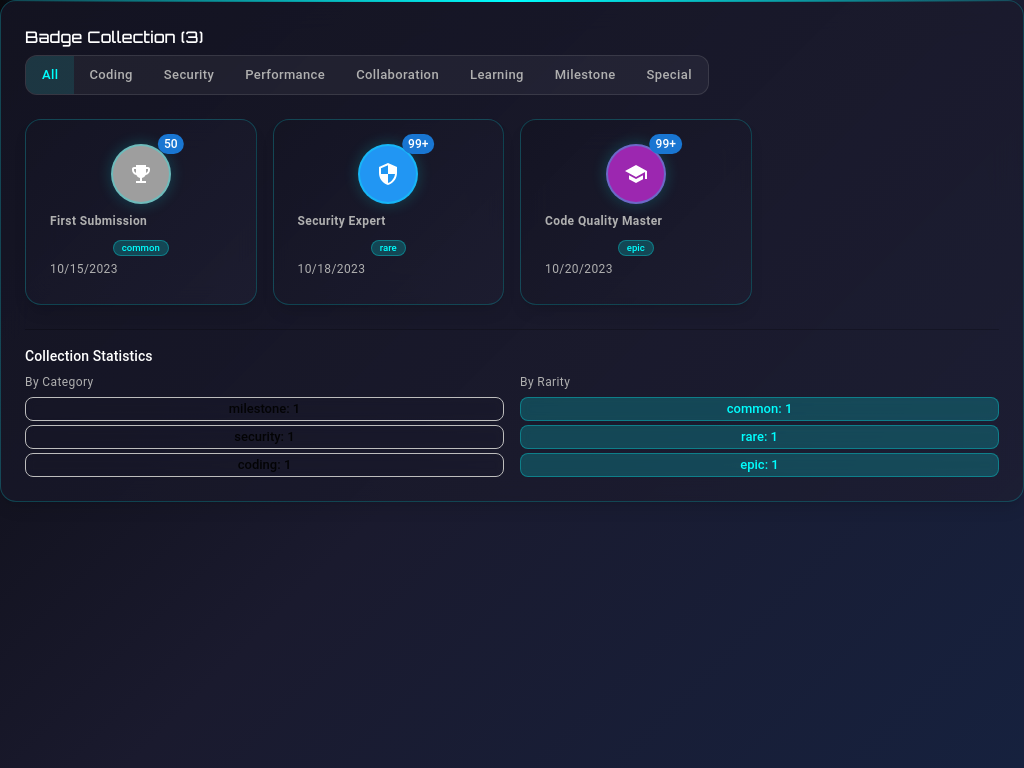
BadgeShowcase › shows badge details in dialog when clicked
Step 1. Click the text "Security Expert" → (388, 212), box left=272, top=119, right=504, bottom=305
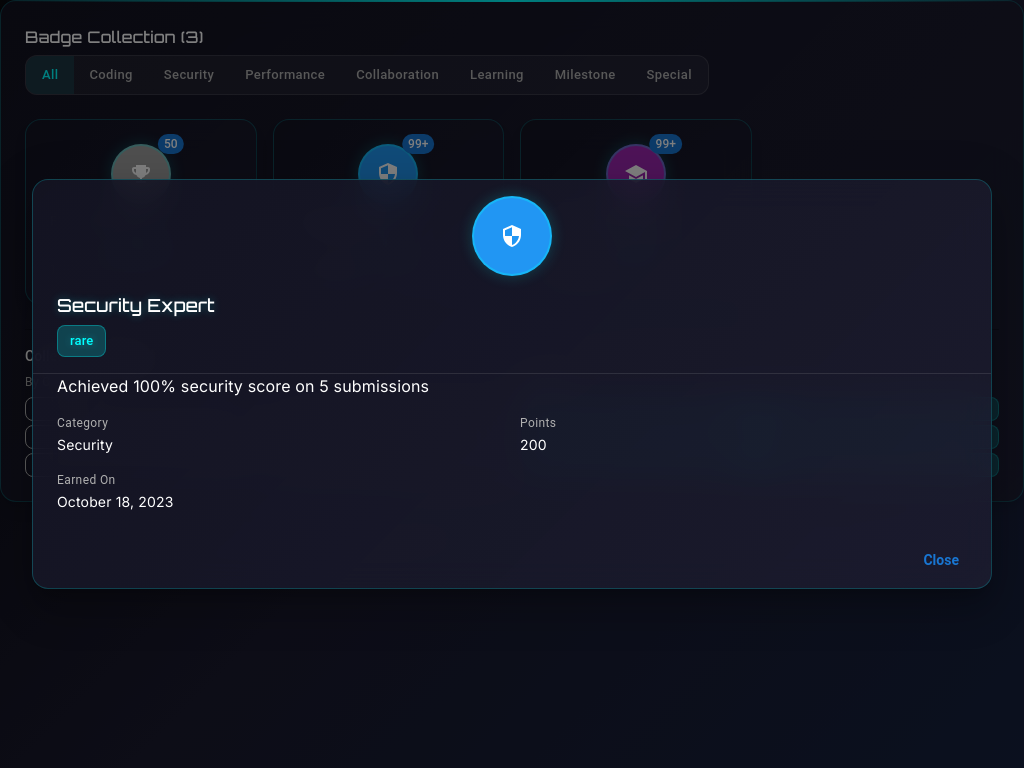
Expected: the text "Achieved 100% security score on 5 submissions" is shown, left=57, top=376, right=429, bottom=396
Expected: the text "200" is shown, left=520, top=436, right=547, bottom=453
